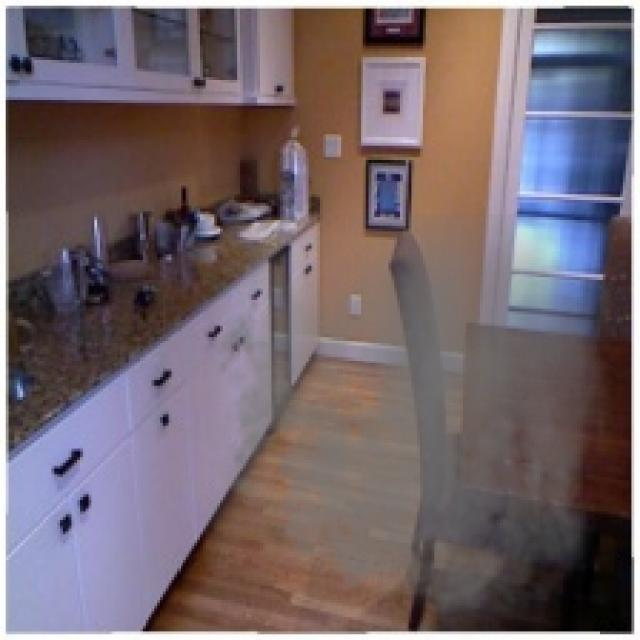Smoke: (202, 214, 614, 637)
